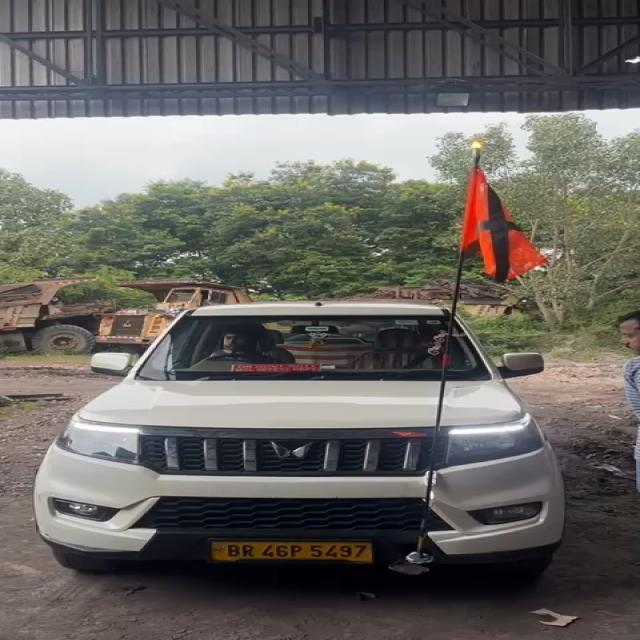light_vehicle: (27, 296, 564, 580)
